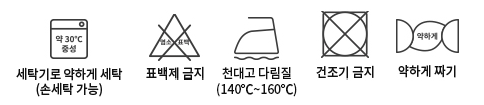KR_gentle_wring: (391, 12, 463, 59)
KR_no_chlorine_bleach: (147, 10, 203, 64)
KR_no_tumble_dry: (319, 7, 372, 62)
KR_wash_warm_30_neutral: (45, 13, 91, 62)
